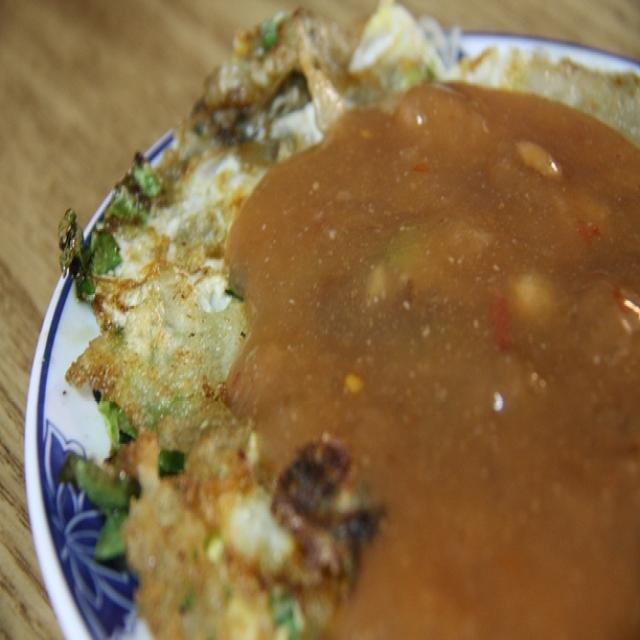熟制海鲜: (9, 8, 636, 630)
